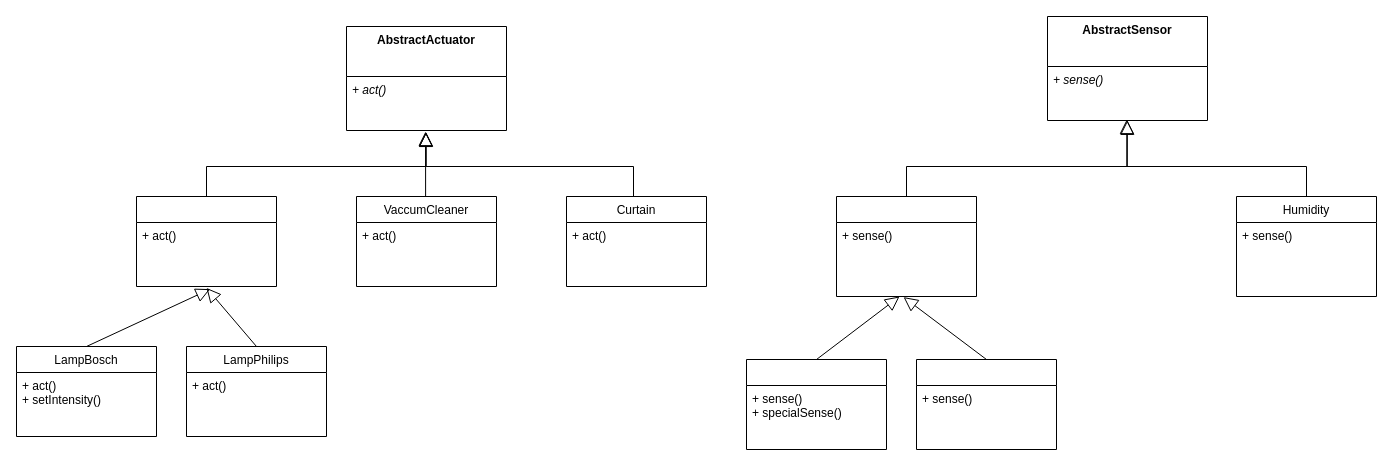
The diagram is 1393 pixels wide and 466 high, and some of its shapes have lost their labels. Here are the shapes that lost their labels. From the top down, the box of each, then its label:
(136, 196, 276, 286): Lamp
(836, 196, 976, 296): Thermometer
(746, 358, 886, 450): ThermometerBosch
(916, 358, 1056, 450): ThermometerPhilips
